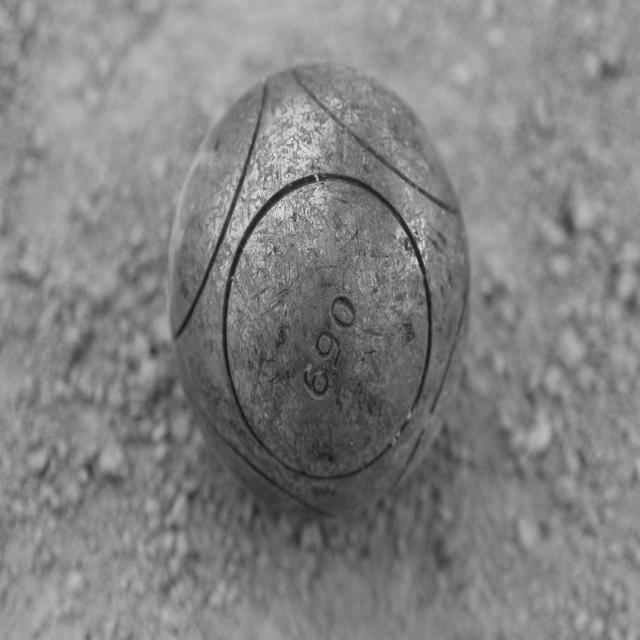petanque: (158, 53, 486, 527)
